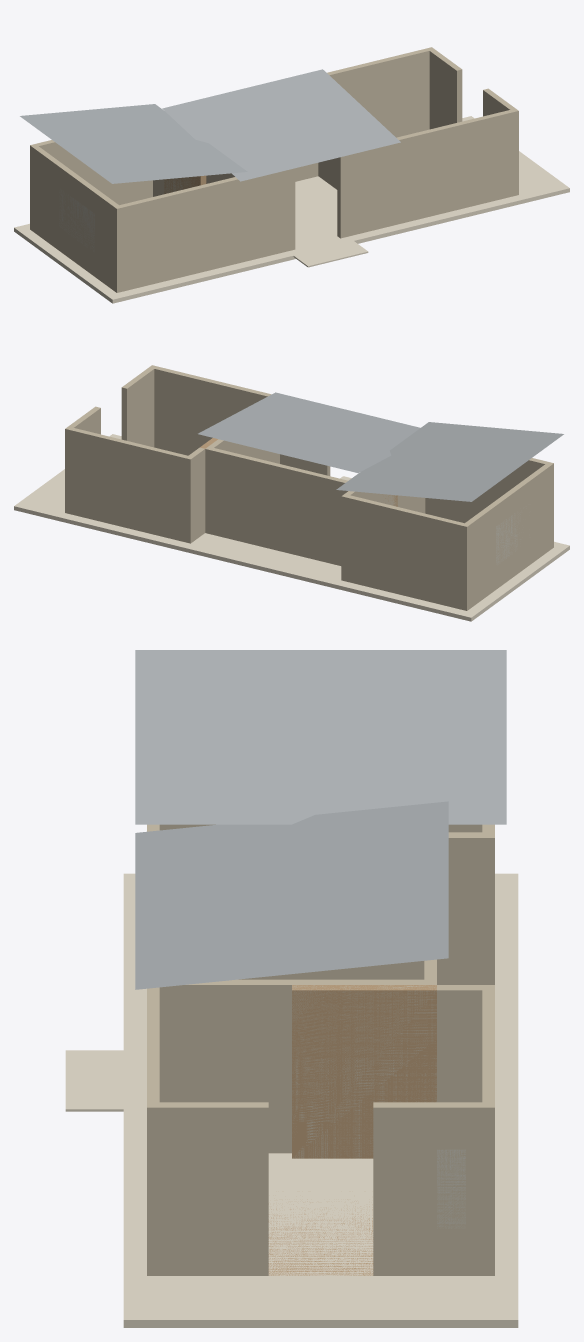
File: community-hub.glb
3 views of the same model, one above another, from view 1: azimuth 30°, elevation 25°; view 2: azimuth 150°, elevation 25°; view 3: azimuth 270°, elevation 25° (orthographic). The views are drawn at different scales.
Visible parts, largest first — view 1: board and batten, standing-seam metal, stone, timber; view 2: board and batten, standing-seam metal, stone; view 3: standing-seam metal, board and batten, stone, timber.
Part boxes in pixels (box(x1,y1,x2,y2)): board and batten: box(30, 47, 518, 292); standing-seam metal: box(20, 69, 400, 183); stone: box(14, 116, 569, 303); timber: box(164, 175, 206, 193); board and batten: box(65, 365, 553, 610); standing-seam metal: box(198, 392, 563, 501); stone: box(14, 434, 569, 621); standing-seam metal: box(135, 650, 506, 989); board and batten: box(147, 824, 494, 1275); stone: box(65, 873, 518, 1327); timber: box(268, 985, 436, 1275).
Bounding box in the file's own units: 18.2 × 4.45 × 7.8.
